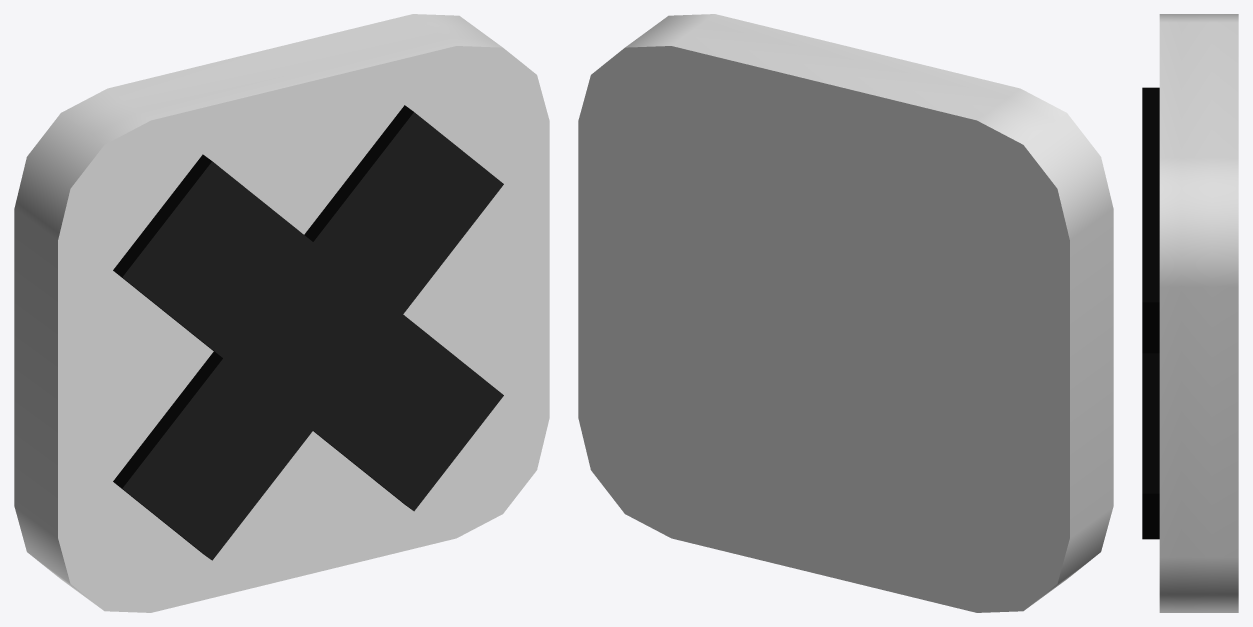
The picture shows the model from 3 angles, left to right: view 1: azimuth 30°, elevation 25°; view 2: azimuth 150°, elevation 25°; view 3: azimuth 270°, elevation 25°; orthographic projection. The views are drawn at different scales.
Parts seen in each view (by area): view 1: closeButtonRoundedWhite; view 2: closeButtonRoundedWhite; view 3: closeButtonRoundedWhite.
Part boxes in pixels (<box>): closeButtonRoundedWhite: <box>14,14,549,612</box>; closeButtonRoundedWhite: <box>578,14,1113,612</box>; closeButtonRoundedWhite: <box>1142,14,1238,612</box>.
Size of what is drawn, in the model's own units: 0.2013 by 0.1928 by 0.0377.
1 material, 1 textured.
